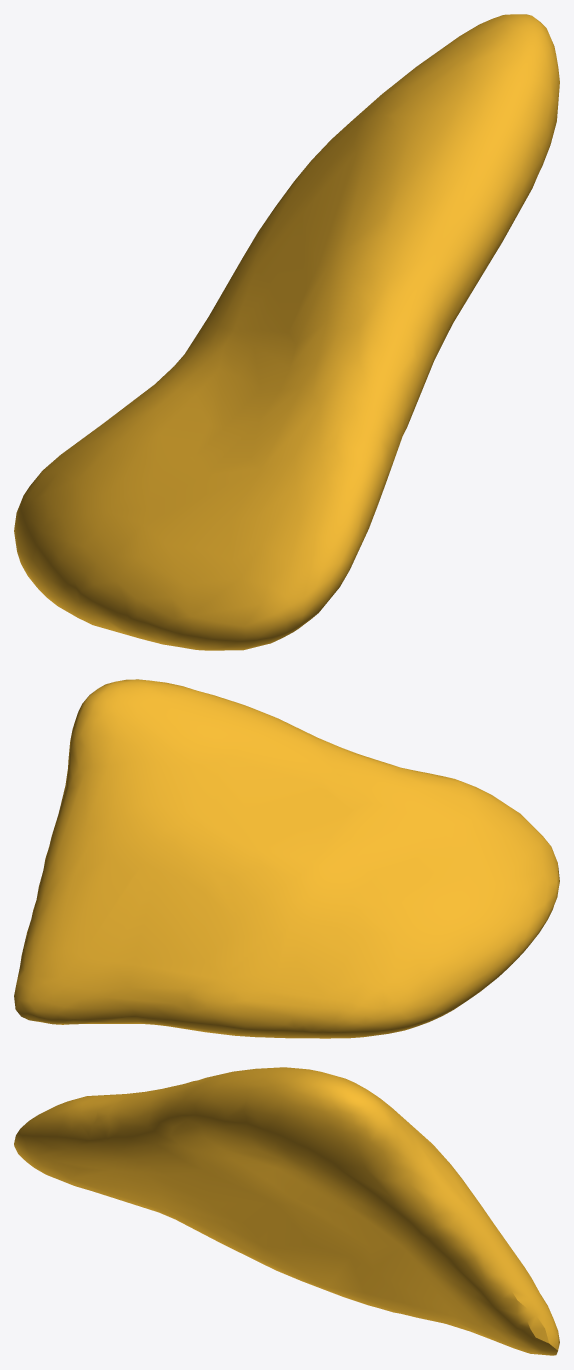
File: nervoso-wing-of-central-lobule-r.glb
3 views of the same model, one above another, from view 1: azimuth 30°, elevation 25°; view 2: azimuth 150°, elevation 25°; view 3: azimuth 270°, elevation 25° (orthographic). The views are drawn at different scales.
Visible parts, largest first — view 1: Wing of central lobule.r; view 2: Wing of central lobule.r; view 3: Wing of central lobule.r.
Part boxes in pixels (left/top/right/bottom): Wing of central lobule.r: left=14, top=14, right=559, bottom=650; Wing of central lobule.r: left=14, top=679, right=559, bottom=1038; Wing of central lobule.r: left=14, top=1067, right=559, bottom=1355.
Size of the model in its own units: 0.0173 by 0.0129 by 0.0206.
